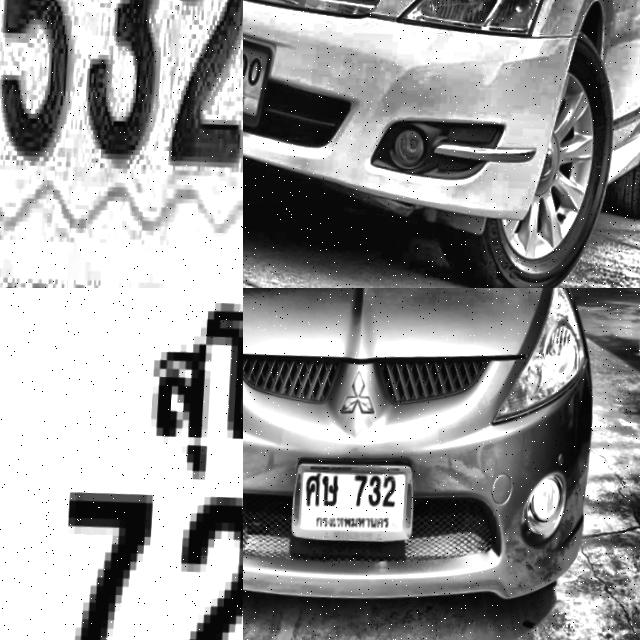license-plate: (0, 288, 243, 640), (0, 0, 243, 288), (282, 451, 421, 558), (243, 3, 273, 134)
